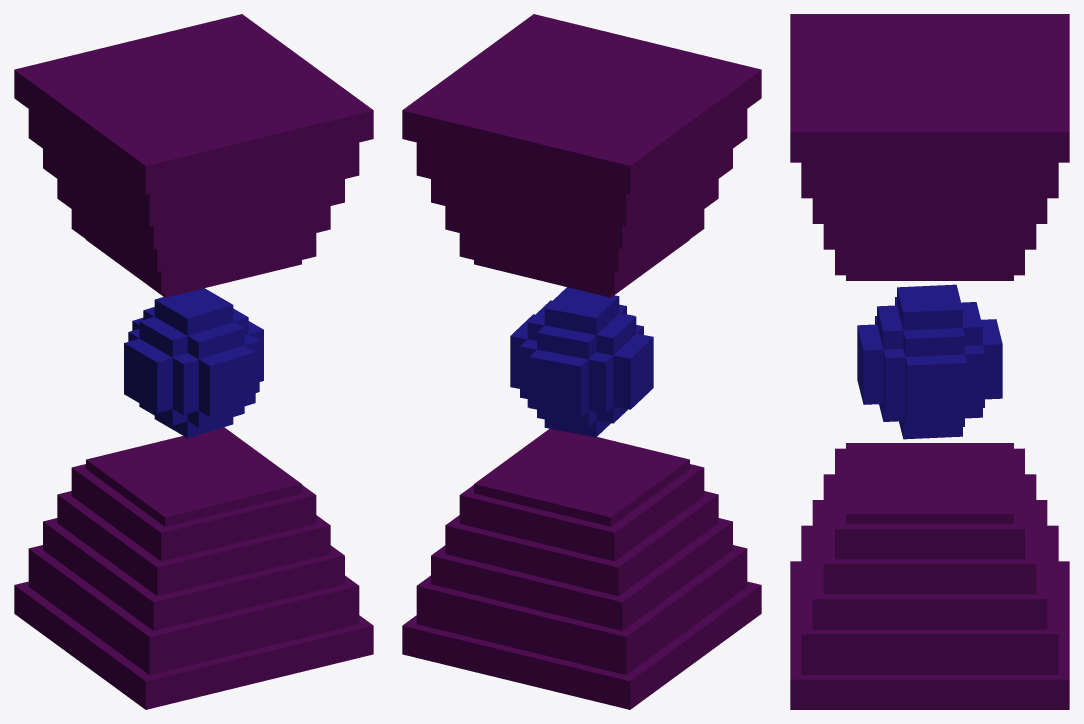
Rendered from pulseCore.fbx.
3 views of the same model, side by side, from view 1: azimuth 30°, elevation 25°; view 2: azimuth 150°, elevation 25°; view 3: azimuth 270°, elevation 25° (orthographic). The views are drawn at different scales.
Visible parts, largest first — view 1: A_pulsecore.body, A_pulsecore.orb; view 2: A_pulsecore.body, A_pulsecore.orb; view 3: A_pulsecore.body, A_pulsecore.orb.
Part boxes in pixels (x1,y1,x2,y2): A_pulsecore.body: (14,14,373,709); A_pulsecore.orb: (124,288,263,438); A_pulsecore.body: (402,14,761,709); A_pulsecore.orb: (510,287,653,437); A_pulsecore.body: (790,14,1069,709); A_pulsecore.orb: (857,284,1002,439).
Bounding box in the file's own units: 191 × 434 × 191.
